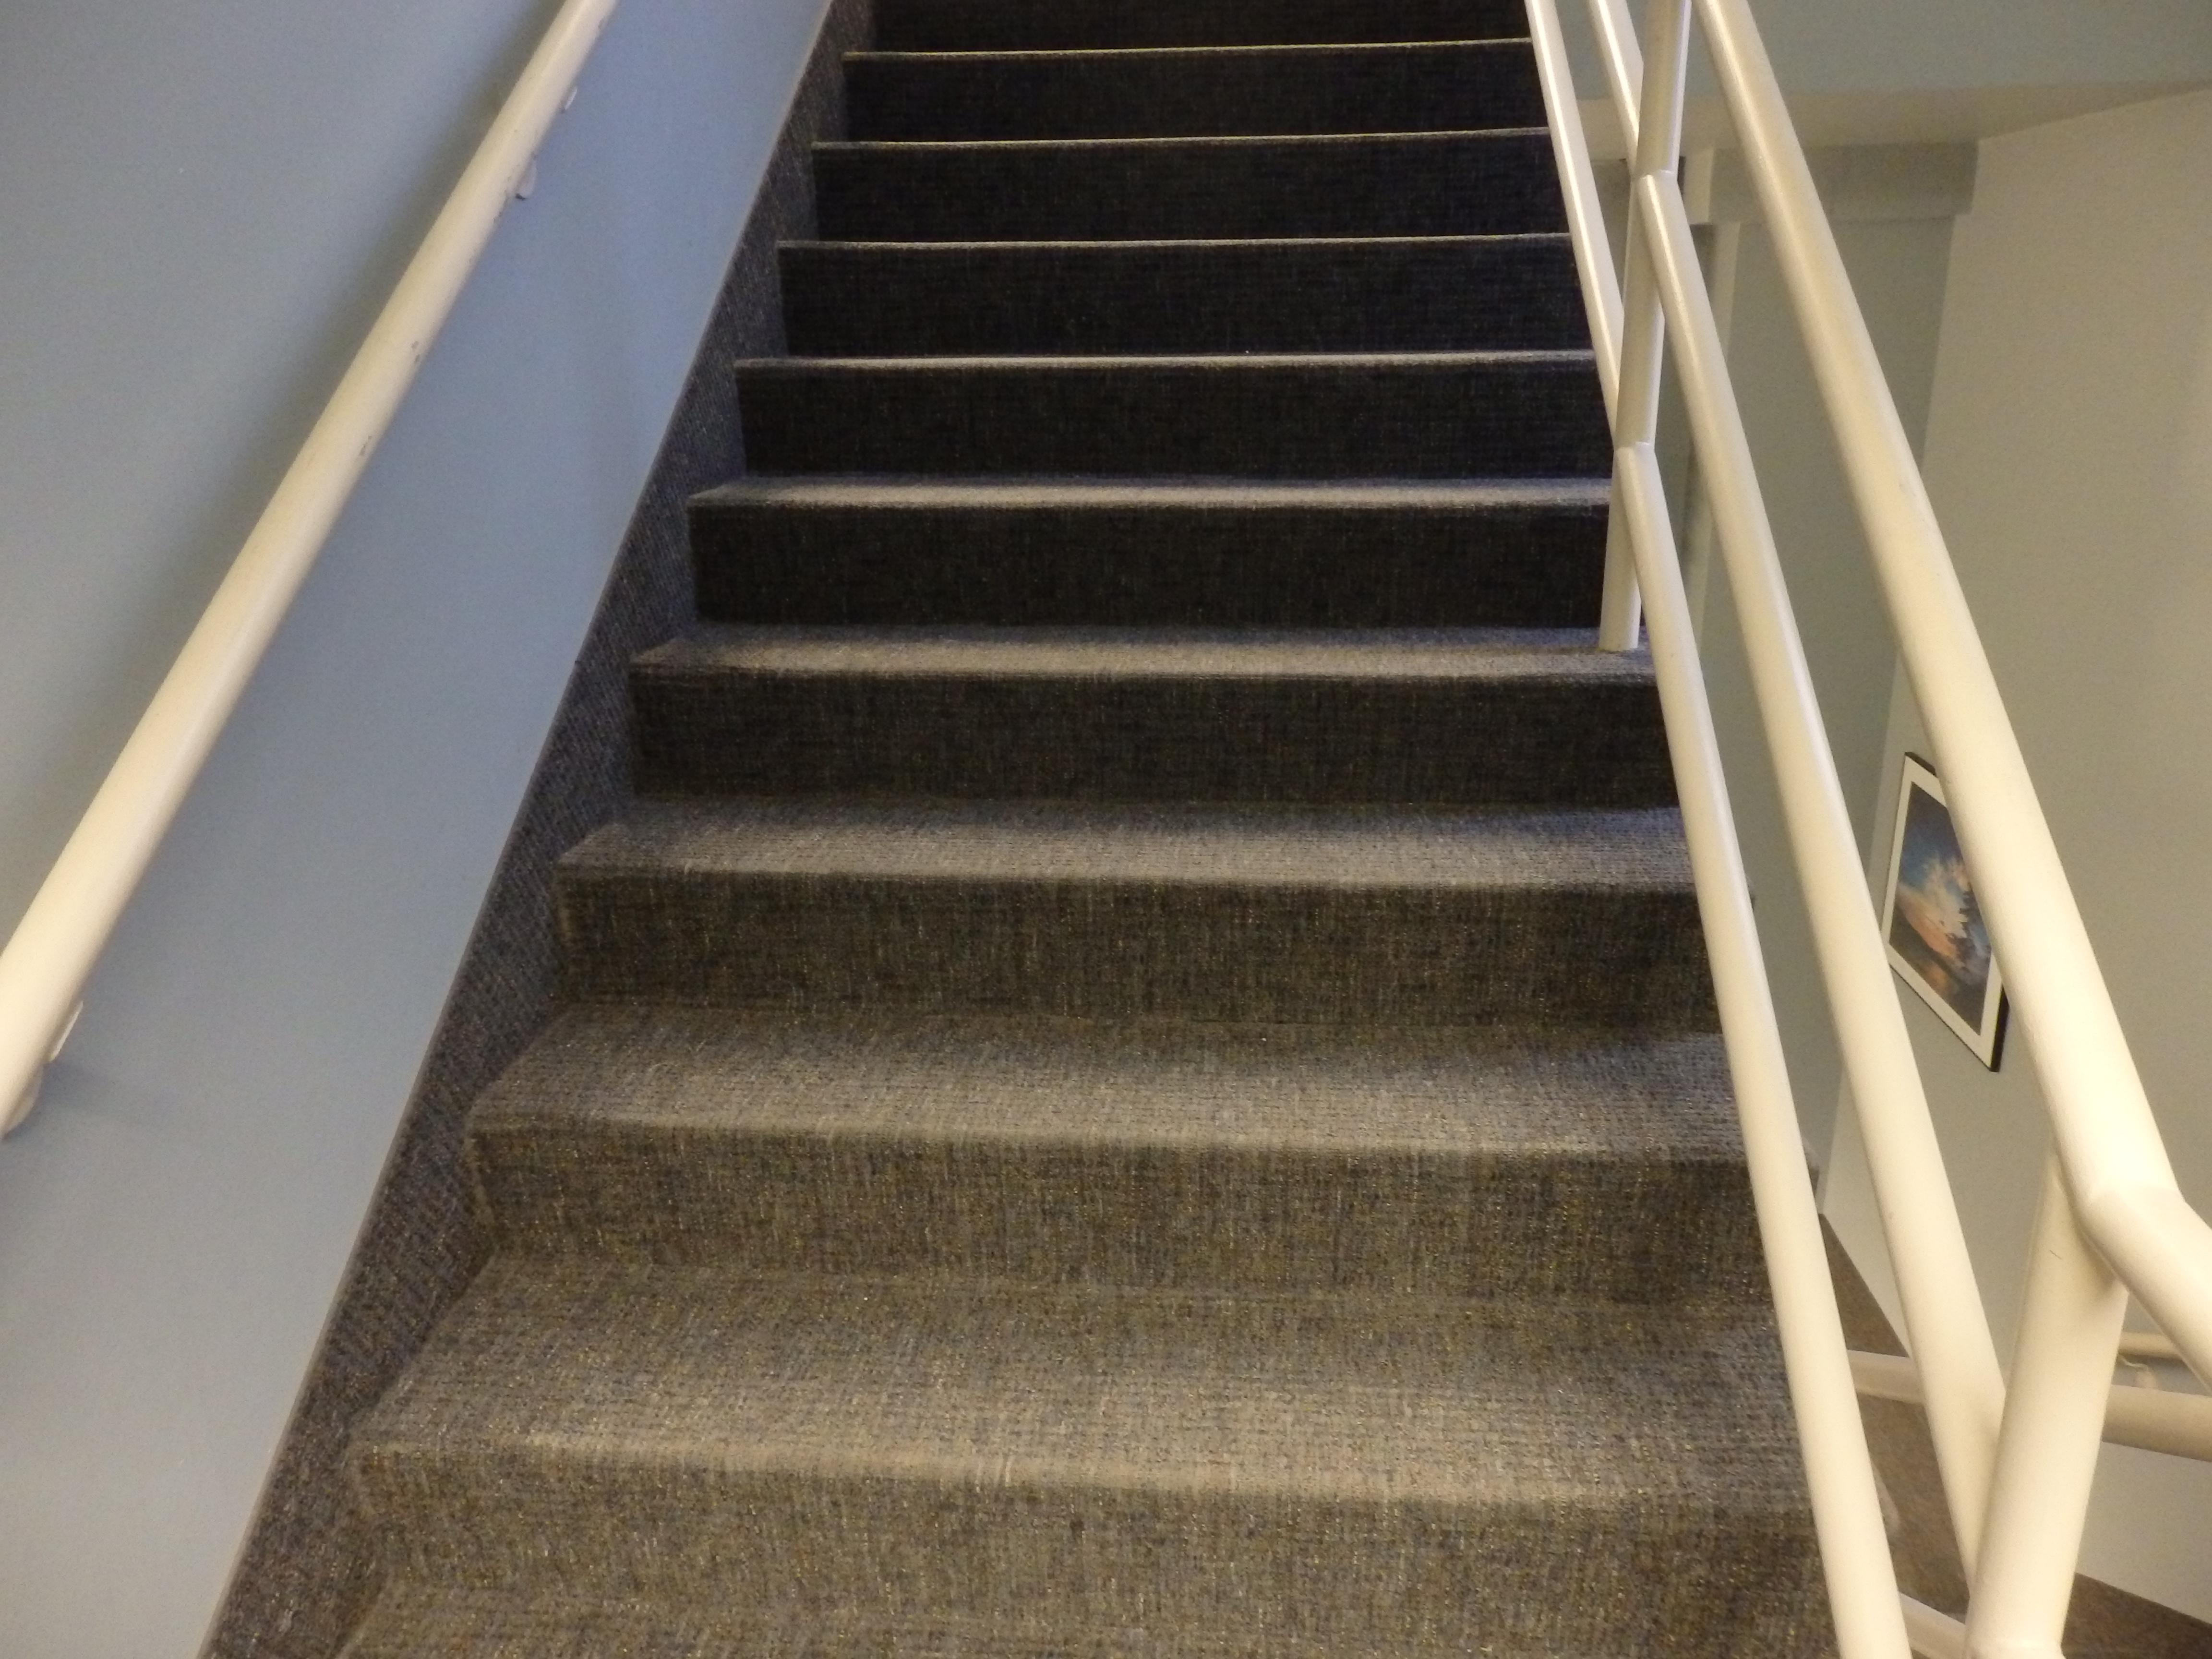stairs_up: (352, 5, 1822, 1544)
